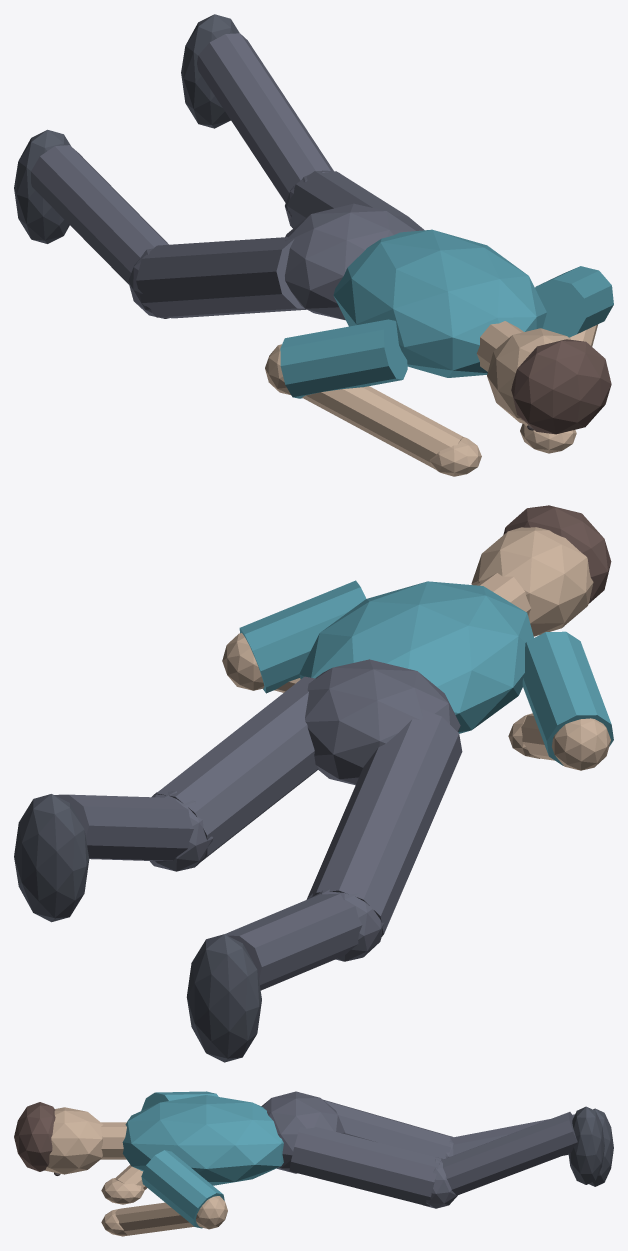
3 renders of one model, top to bottom at view 1: azimuth 30°, elevation 25°; view 2: azimuth 150°, elevation 25°; view 3: azimuth 270°, elevation 25°, orthographic. The views are drawn at different scales.
Visible parts, largest first — view 1: world; view 2: world; view 3: world.
Part boxes in pixels (box(x1,y1,x2,y2)): world: box(14, 14, 613, 476); world: box(14, 505, 613, 1062); world: box(14, 1091, 613, 1236).
Size of the model in its own units: 0.93 by 0.5125 by 2.07.
